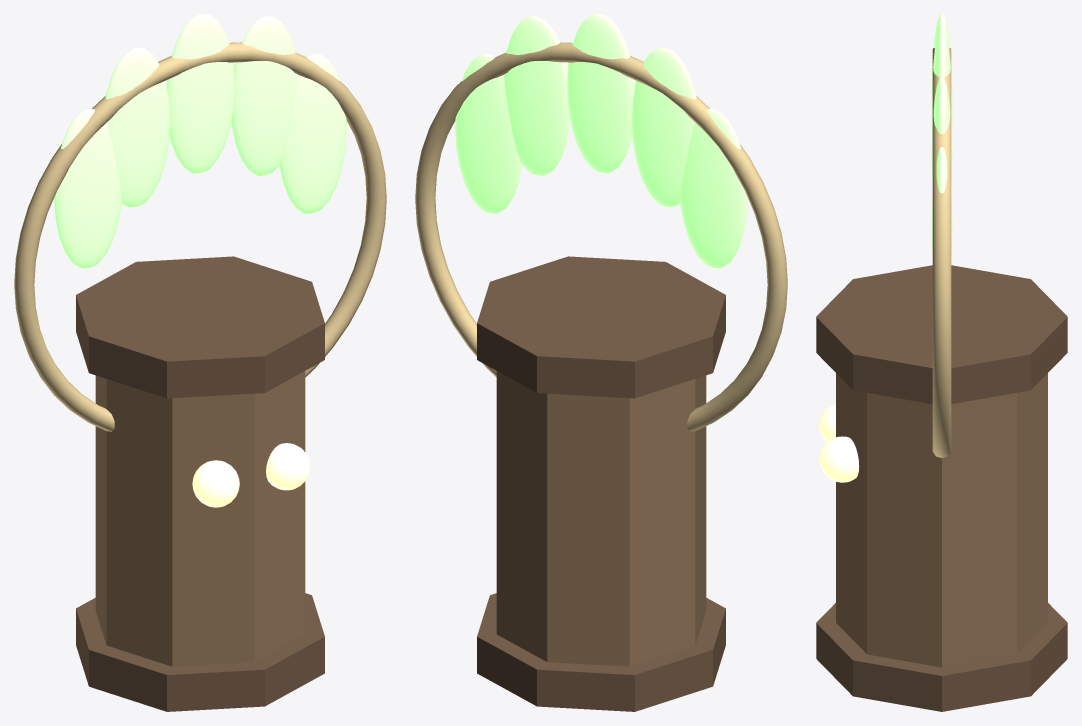
Rendered from relic_13.glb.
3 renders of one model, left to right at view 1: azimuth 30°, elevation 25°; view 2: azimuth 150°, elevation 25°; view 3: azimuth 270°, elevation 25°, orthographic. The views are drawn at different scales.
Parts seen in each view (by area): view 1: Cylinder; view 2: Cylinder; view 3: Cylinder.
Boxes of the visible parts, x1,y1,x2,y2 form: Cylinder: [14, 14, 386, 711]; Cylinder: [415, 14, 787, 711]; Cylinder: [816, 14, 1067, 711].
Size of the model in its own units: 0.66 by 1.1 by 0.3981.
